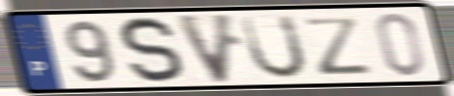0: (373, 11, 427, 79)
9: (60, 19, 119, 85)
S: (117, 14, 187, 86)
U: (238, 13, 309, 82)
V: (172, 11, 238, 86)
Z: (300, 15, 374, 77)
